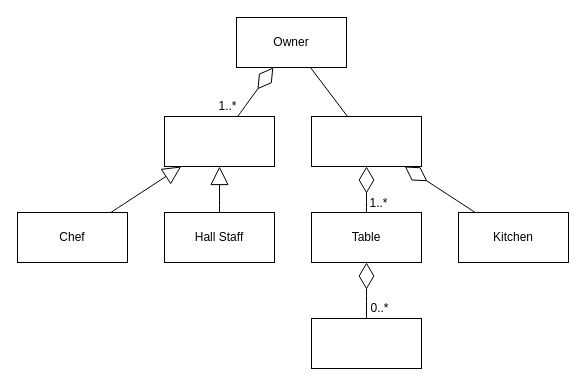
Image size: 586x386. Some labels were removed from this diagram. The centre of each missing label's shape, as x and y in pixels:
"Customer" goes at (366,343).
"Restaurant" goes at (366,141).
"Staff" goes at (219,141).
